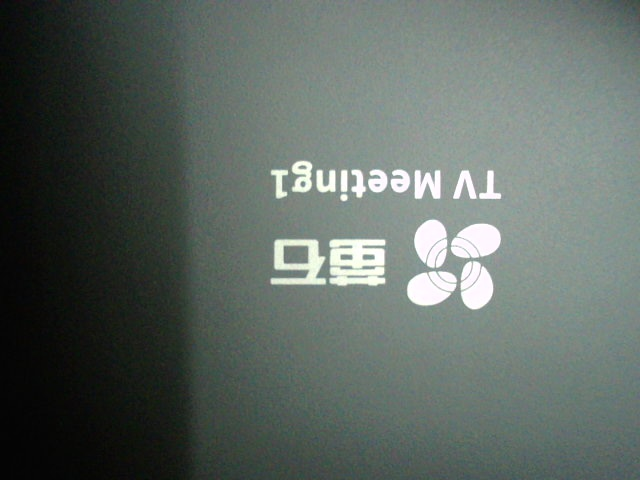BA_Yingshi: (267, 161, 502, 310)
